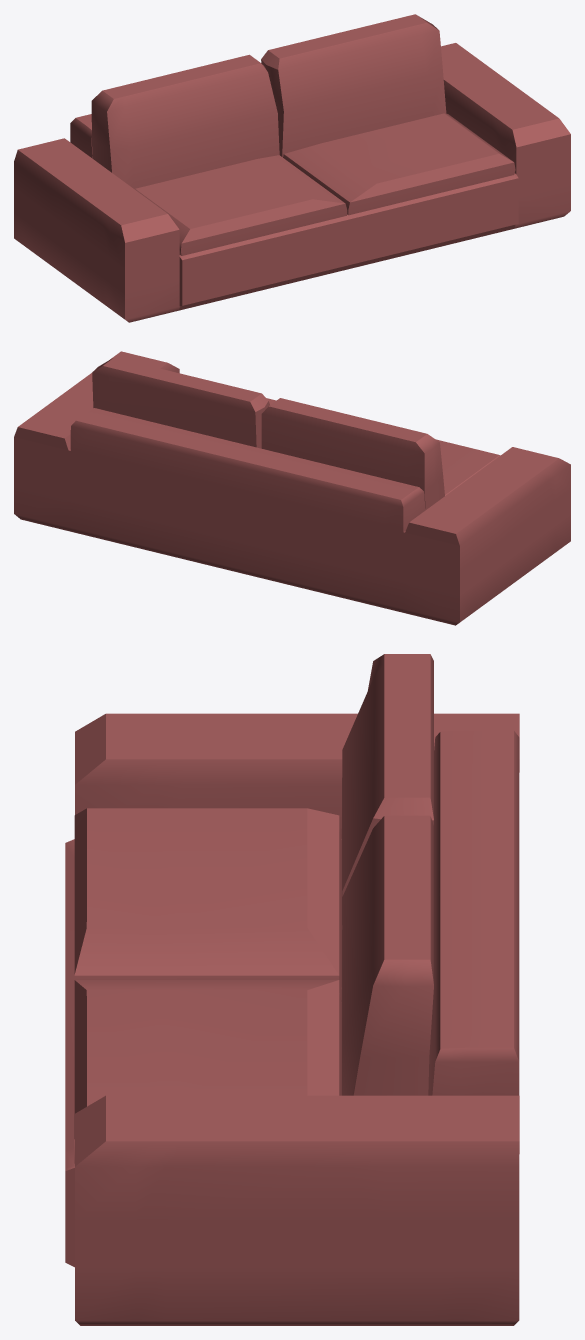
File: Couch_Model_NewMat_SC.fbx
3 views of the same model, one above another, from view 1: azimuth 30°, elevation 25°; view 2: azimuth 150°, elevation 25°; view 3: azimuth 270°, elevation 25° (orthographic). The views are drawn at different scales.
Parts seen in each view (by area): view 1: couch_newmat; view 2: couch_newmat; view 3: couch_newmat.
Boxes of the visible parts, box(x1,y1,x2,y2) form: couch_newmat: box(14, 14, 570, 322); couch_newmat: box(14, 351, 570, 625); couch_newmat: box(65, 654, 519, 1325).
Bounding box in the file's own units: 7.94 × 2.8 × 3.5.
